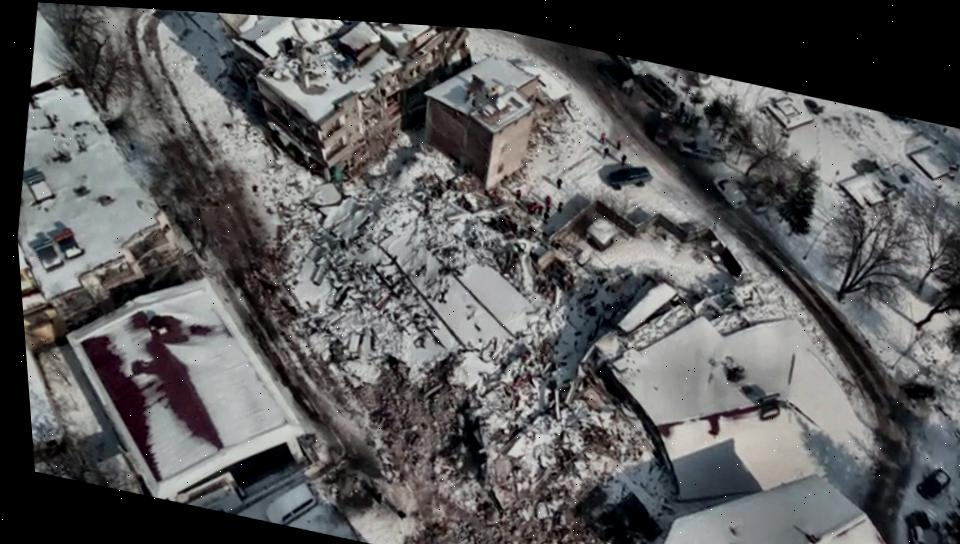kapali: (176, 189, 507, 544)
